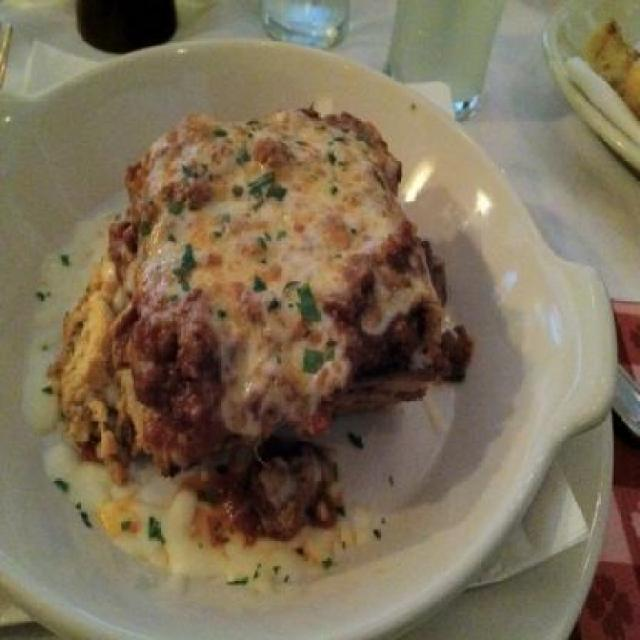Lasagna: (57, 130, 410, 548)
